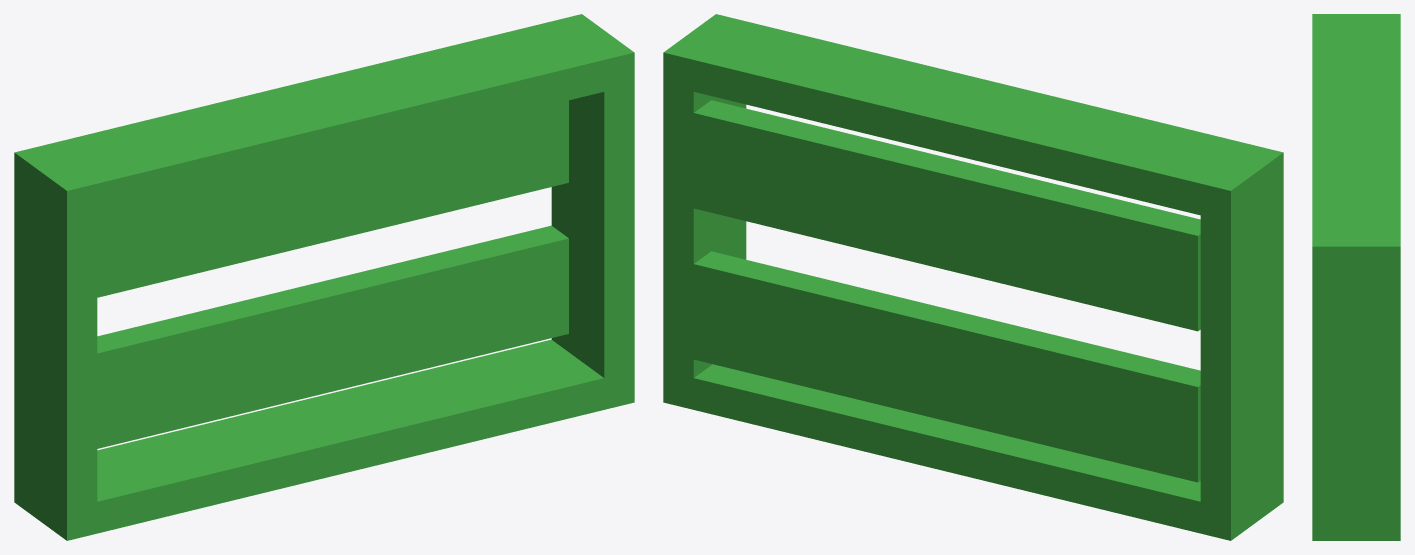
The model's file is tinker.obj.
3 renders of one model, left to right at view 1: azimuth 30°, elevation 25°; view 2: azimuth 150°, elevation 25°; view 3: azimuth 270°, elevation 25°, orthographic. The views are drawn at different scales.
Visible parts, largest first — view 1: obj_0; view 2: obj_0; view 3: obj_0.
Boxes of the visible parts, box(x1,y1,x2,y2) form: obj_0: box(14, 14, 634, 540); obj_0: box(663, 14, 1283, 540); obj_0: box(1312, 14, 1400, 540).
Bounding box in the file's own units: 224 × 132 × 36.
